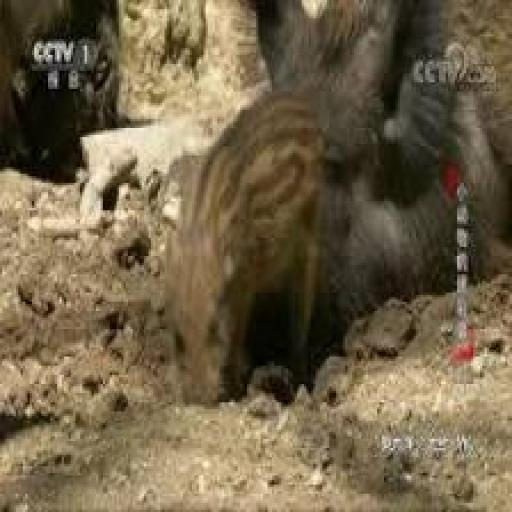Pig: (247, 0, 512, 320), (160, 78, 346, 425)
